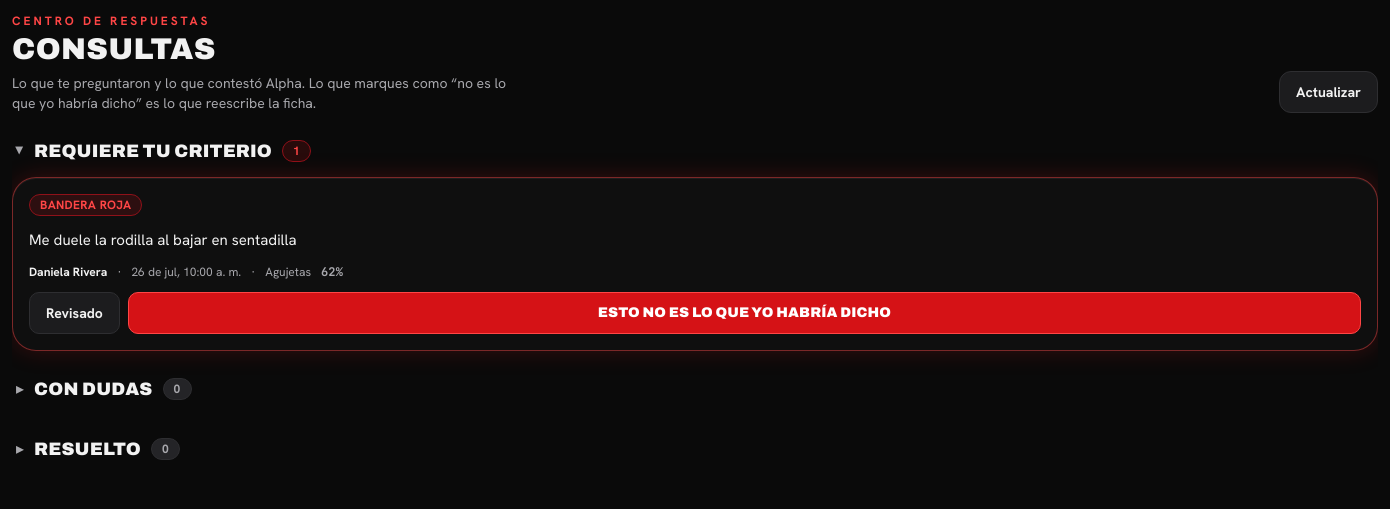
Test: ConsultasPage › si Supabase no confirma el cambio, NO se pinta como guardado
The width and height of the screenshot is (1390, 509).
What coordinates should you click on to do the following:
click the button "Esto no es lo que yo habría dicho"
I would click on:
 (744, 313)
Its box is [128,292,1361,334].
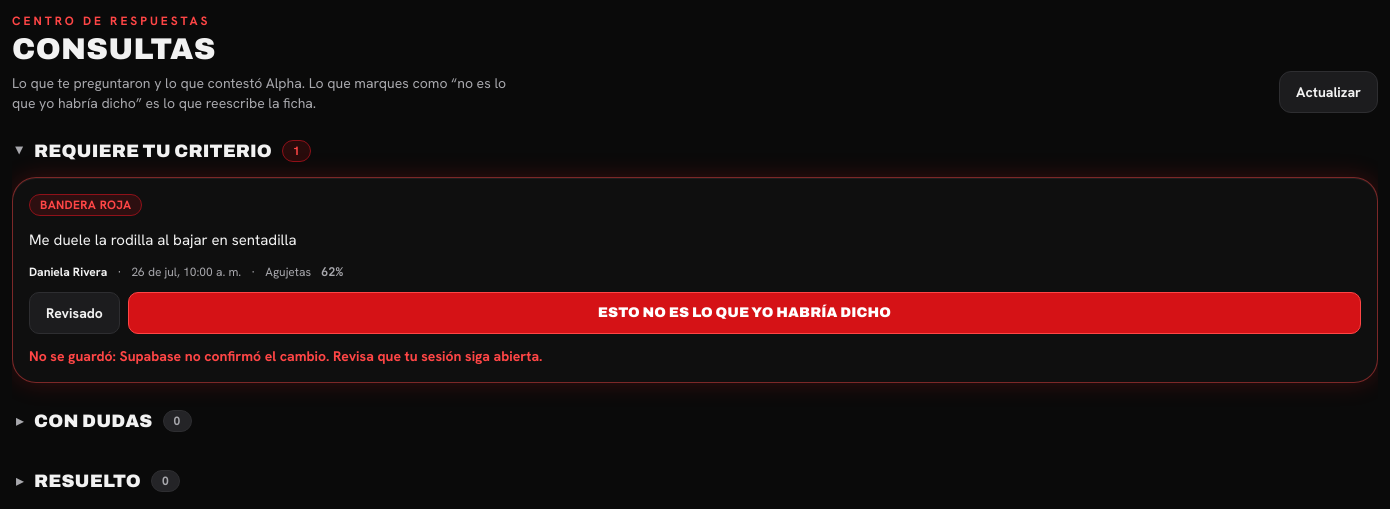
Expected: the text "No se guardó" is shown, [29,347,542,365]
